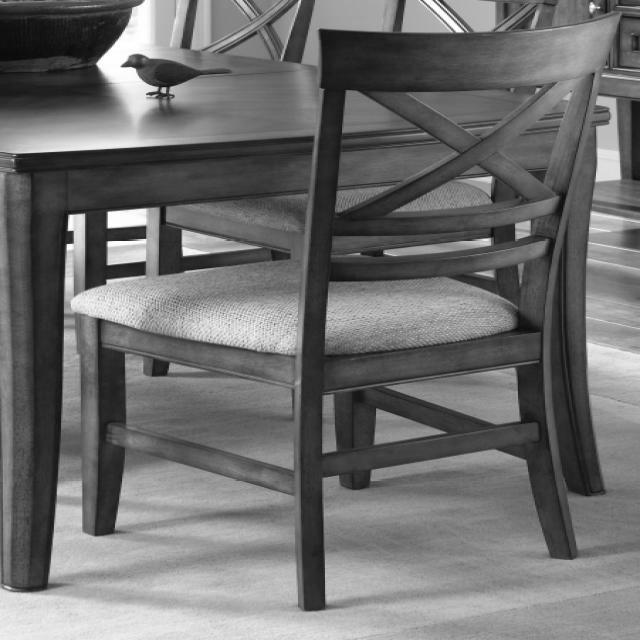chair: (80, 13, 629, 614)
